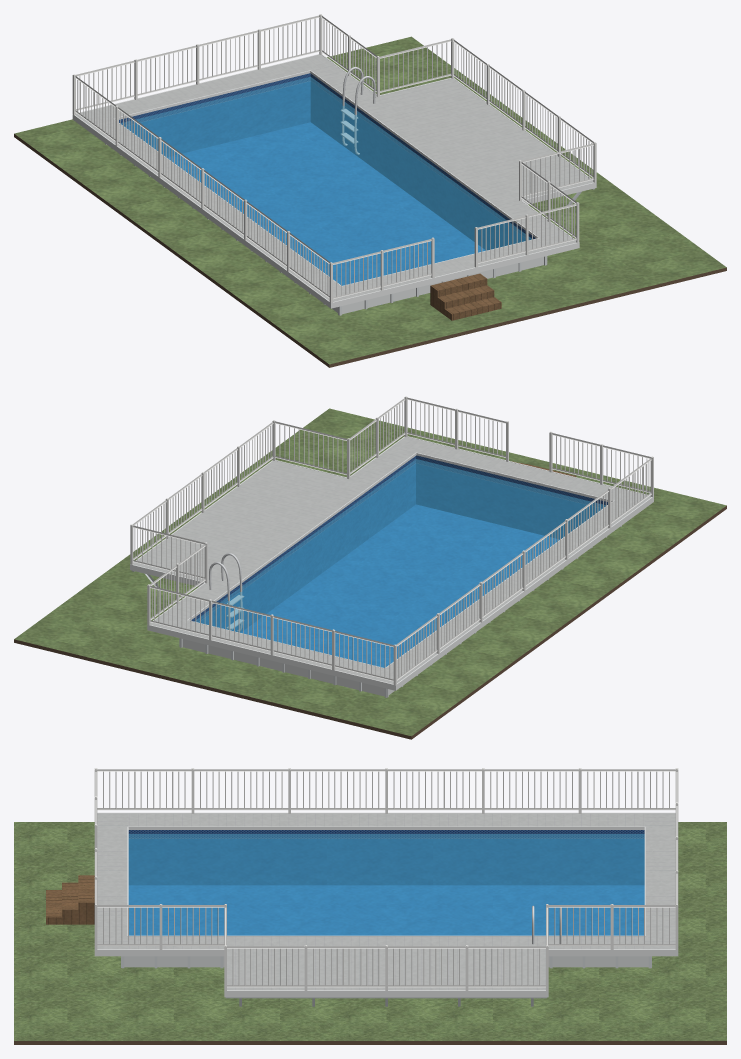
Rendered from kayak-pool-16x32-white-t-rec-fence.52ef3a04ef.glb.
3 views of the same model, one above another, from view 1: azimuth 30°, elevation 25°; view 2: azimuth 150°, elevation 25°; view 3: azimuth 270°, elevation 25° (orthographic). The views are drawn at different scales.
Parts seen in each view (by area): view 1: ground, water, deck, liner_floor, fence, liner_wall, fascia, soil, steps, wall, steel; view 2: ground, water, deck, liner_floor, fence, liner_wall, fascia, soil, wall, steel; view 3: ground, water, deck, liner_wall, liner_floor, fence, fascia, soil, wall, steps, stud.
Part boxes in pixels (<box>): ground: <box>14,36,726,364</box>; water: <box>121,77,531,285</box>; deck: <box>75,54,593,301</box>; liner_floor: <box>167,122,485,285</box>; fence: <box>72,14,596,302</box>; liner_wall: <box>119,73,535,250</box>; fascia: <box>72,54,596,308</box>; soil: <box>14,134,726,367</box>; steps: <box>430,273,501,320</box>; wall: <box>332,257,543,314</box>; steel: <box>340,67,375,154</box>; ground: <box>14,408,726,736</box>; water: <box>194,459,605,667</box>; deck: <box>133,437,650,683</box>; liner_floor: <box>241,504,559,667</box>; fence: <box>130,396,653,685</box>; liner_wall: <box>191,455,607,632</box>; fascia: <box>130,436,653,690</box>; soil: <box>14,505,726,739</box>; wall: <box>182,639,394,696</box>; steel: <box>209,553,244,631</box>; ground: <box>14,822,726,1040</box>; water: <box>128,834,644,935</box>; deck: <box>97,813,675,990</box>; liner_wall: <box>128,830,644,885</box>; liner_floor: <box>128,885,644,935</box>; fence: <box>94,768,678,990</box>; fascia: <box>94,812,678,997</box>; soil: <box>14,1041,726,1044</box>; wall: <box>124,956,648,967</box>; steps: <box>46,875,94,924</box>; stud: <box>225,997,547,1006</box>.
Bounding box in the file's own units: 9.75 × 2.15 × 13.4.
Materials: 13 (5 with a texture image).
